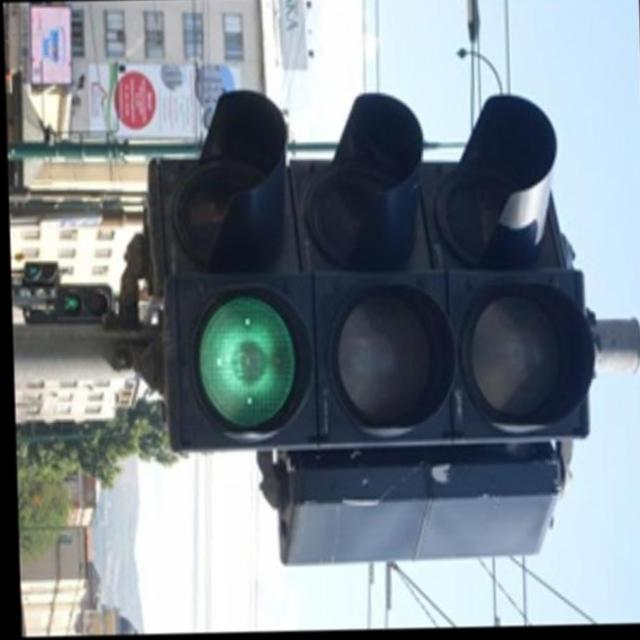green light: (163, 272, 585, 455)
